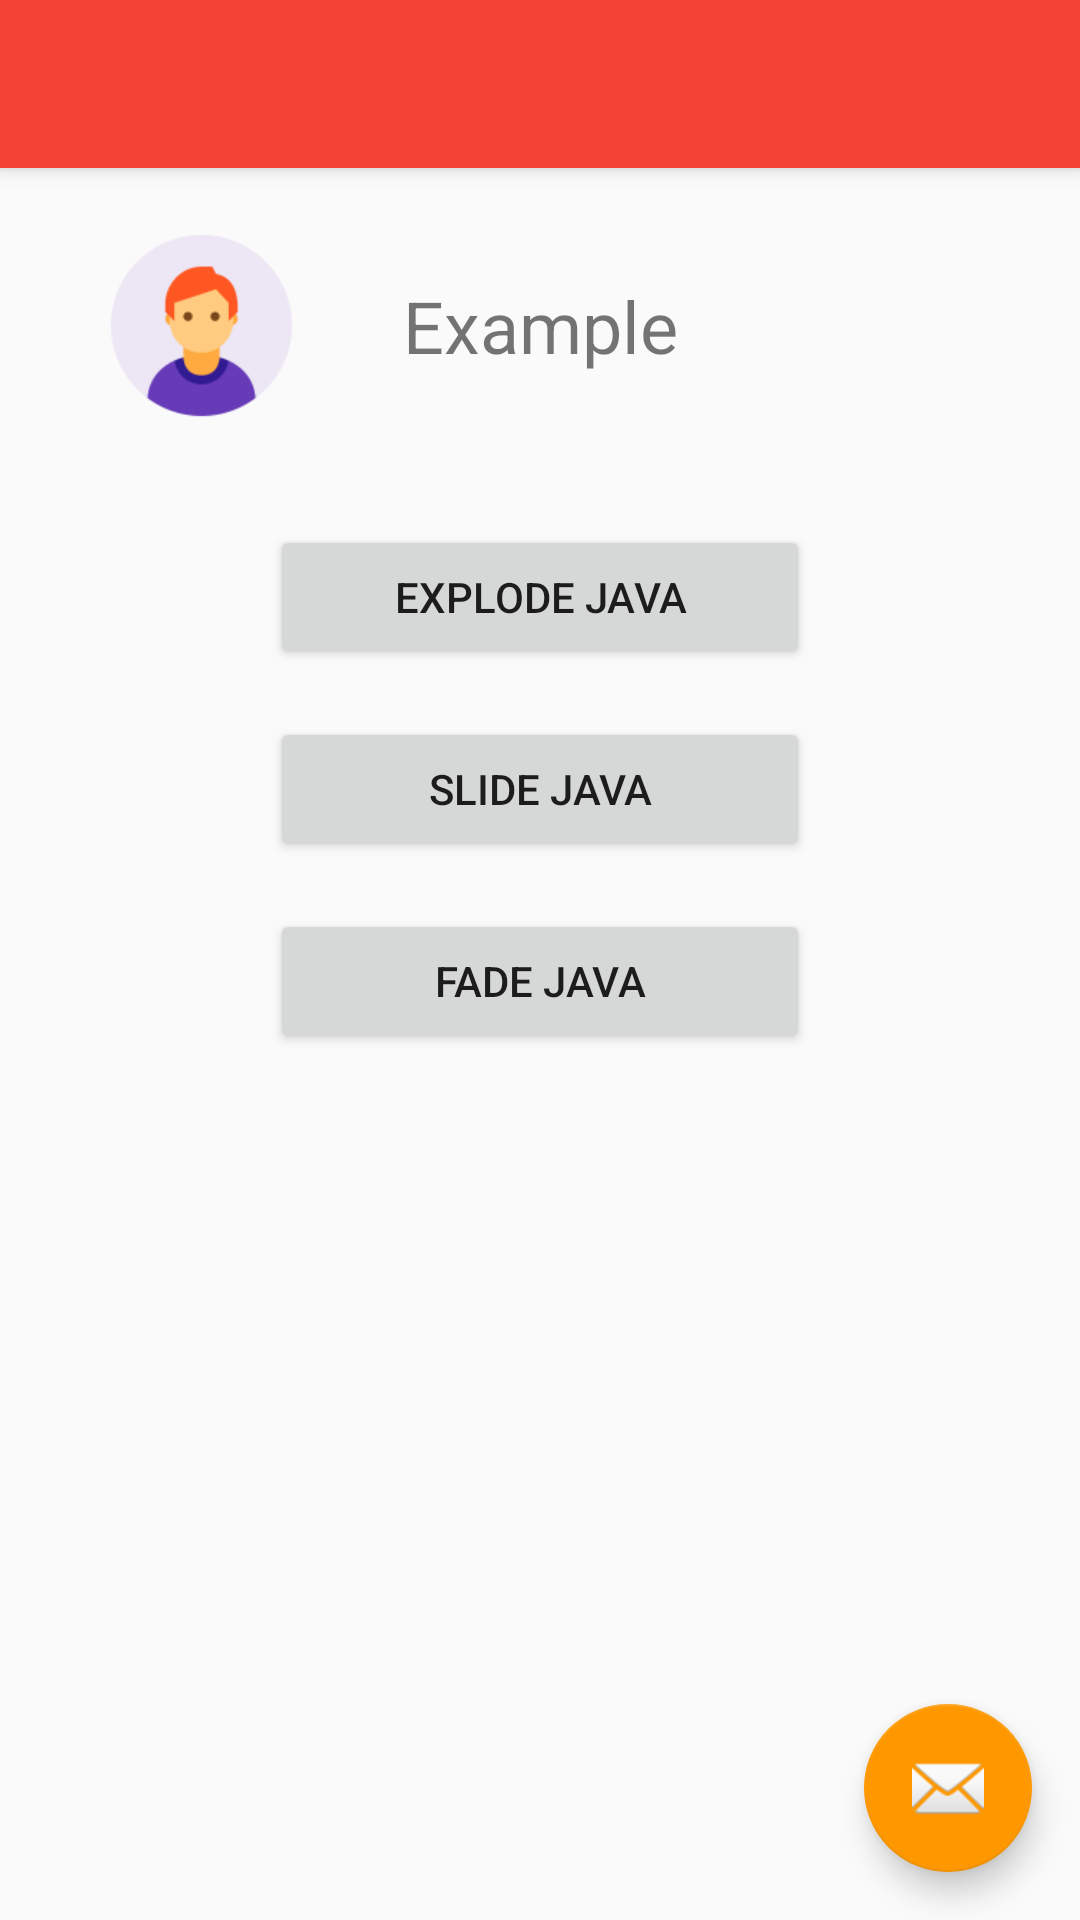

Screen size 1080 x 1920. Icon name, then its center in pixels as (x,y):
email: (948,1788)
image user: (201,341)
